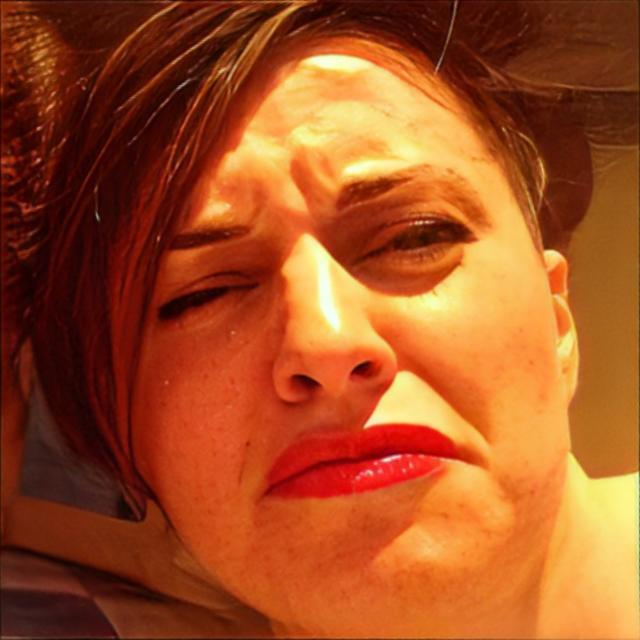disgust: (103, 18, 572, 626)
